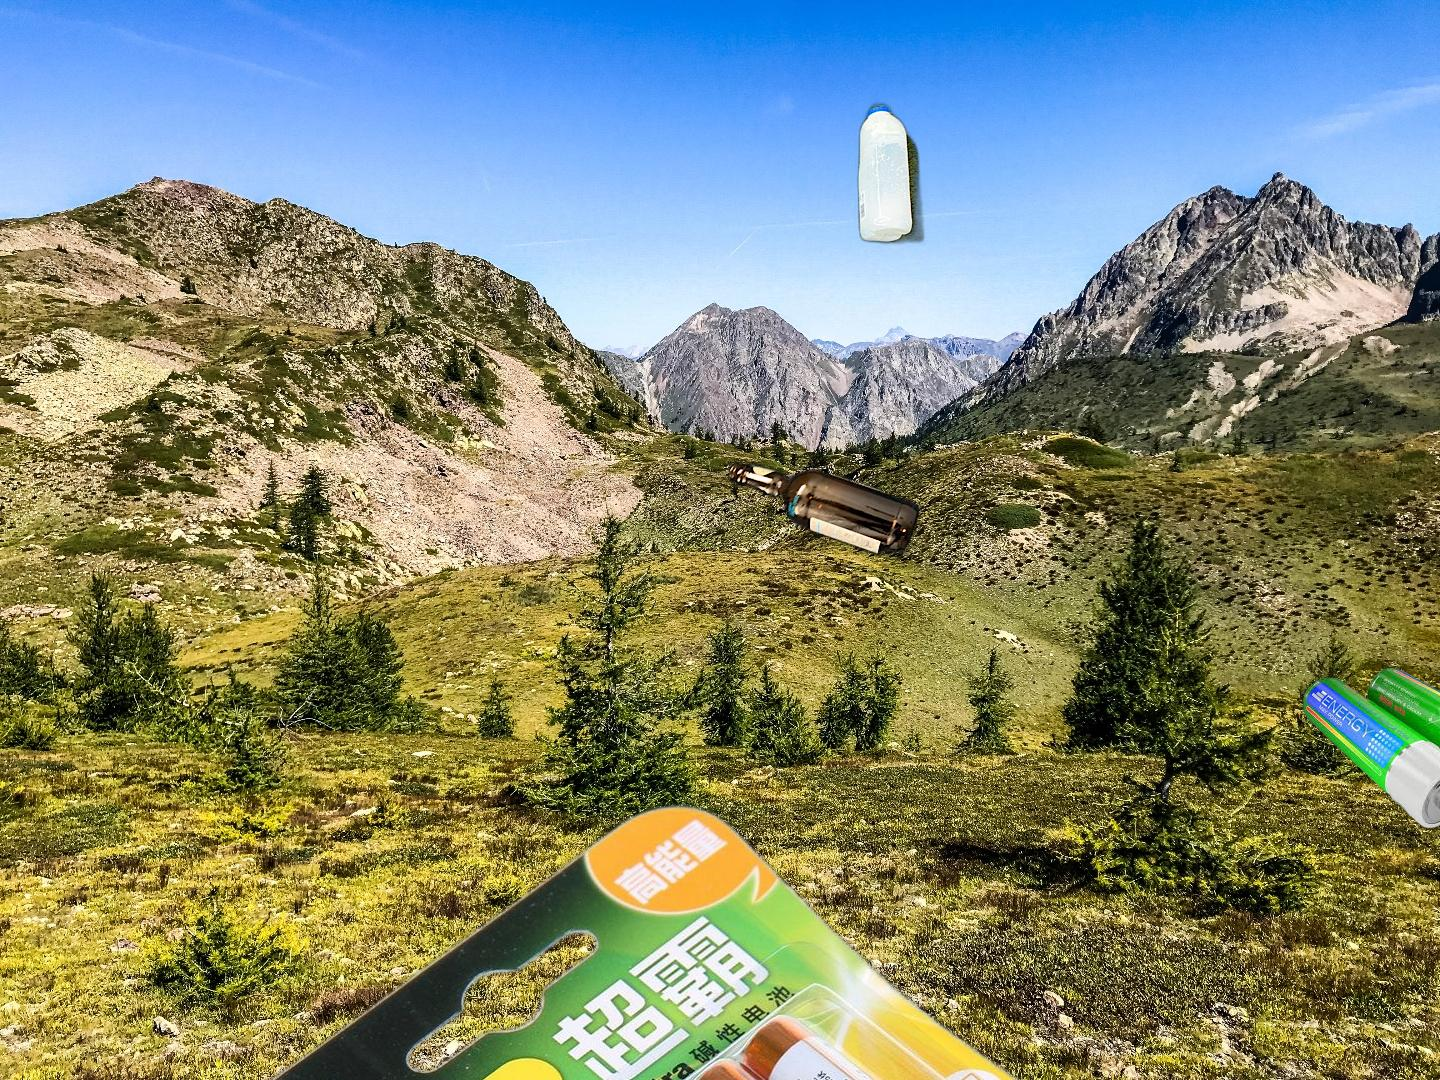battery: (232, 798, 1221, 1080), (1301, 665, 1440, 832)
glass: (725, 455, 924, 562)
metal-cans: (613, 708, 1018, 1080)
plastic-bottles: (437, 98, 927, 633)
